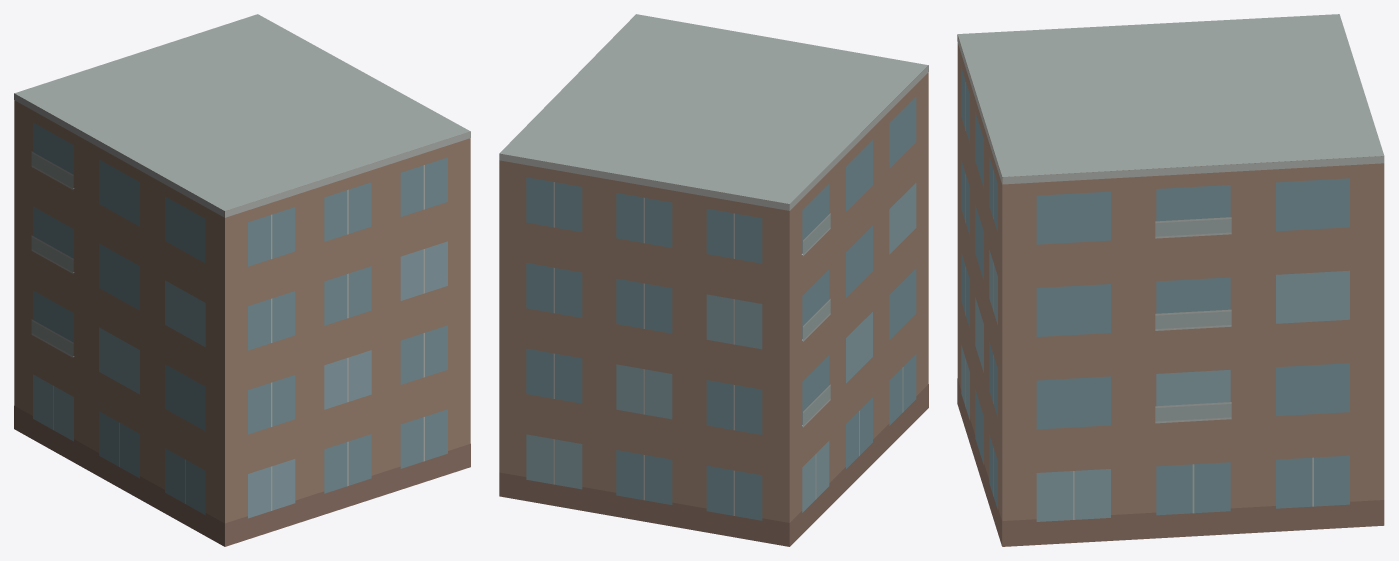
The model's file is survey-upis-32849150.glb.
3 views of the same model, side by side, from view 1: azimuth 30°, elevation 25°; view 2: azimuth 150°, elevation 25°; view 3: azimuth 270°, elevation 25° (orthographic). The views are drawn at different scales.
Visible parts, largest first — view 1: survey-upis-32849150.tmp; view 2: survey-upis-32849150.tmp; view 3: survey-upis-32849150.tmp.
Part boxes in pixels (x1=…): survey-upis-32849150.tmp: x1=14, y1=14, x2=470, y2=546; survey-upis-32849150.tmp: x1=499, y1=14, x2=928, y2=546; survey-upis-32849150.tmp: x1=957, y1=14, x2=1384, y2=546.
Bounding box in the file's own units: 11.55 × 12.2 × 12.78.
